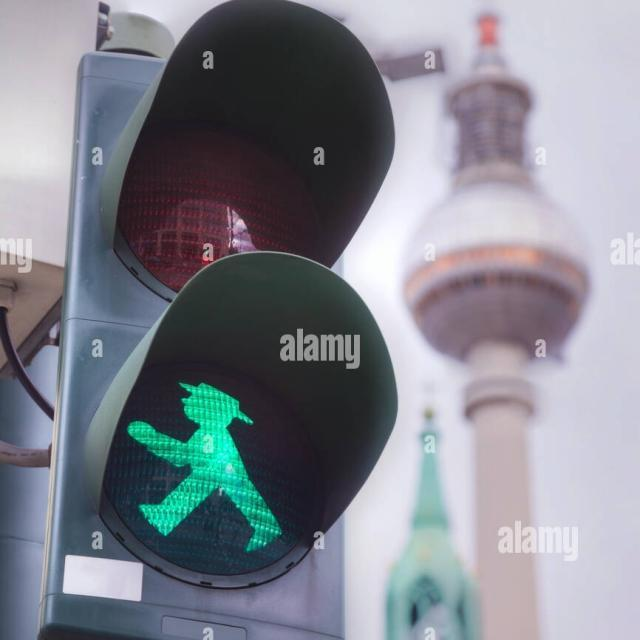geen-crossing: (126, 360, 282, 566)
